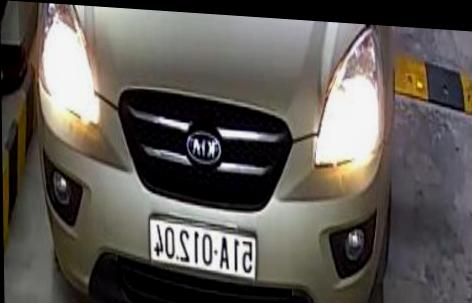License_Plate: (142, 215, 262, 282)
